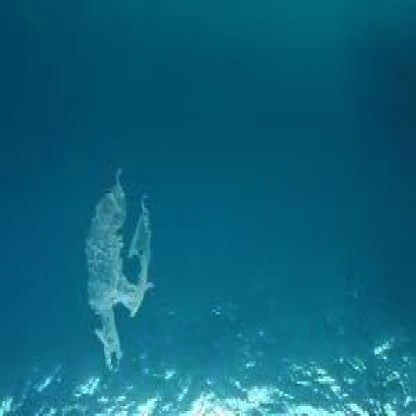pbag: (83, 166, 153, 374)
